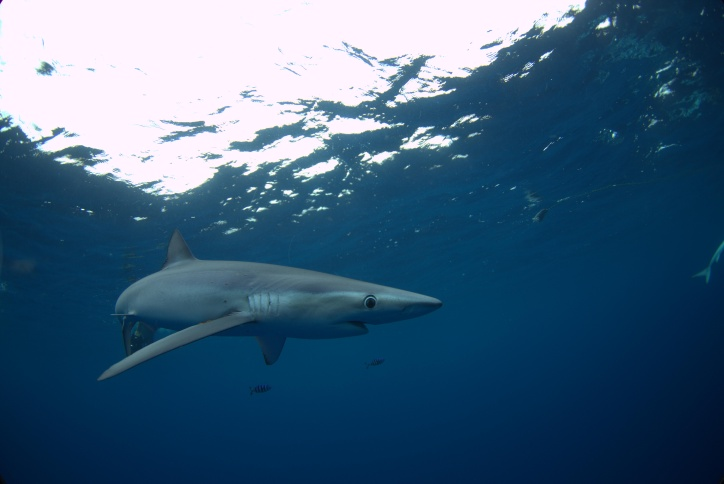Azul: (51, 193, 464, 396)
